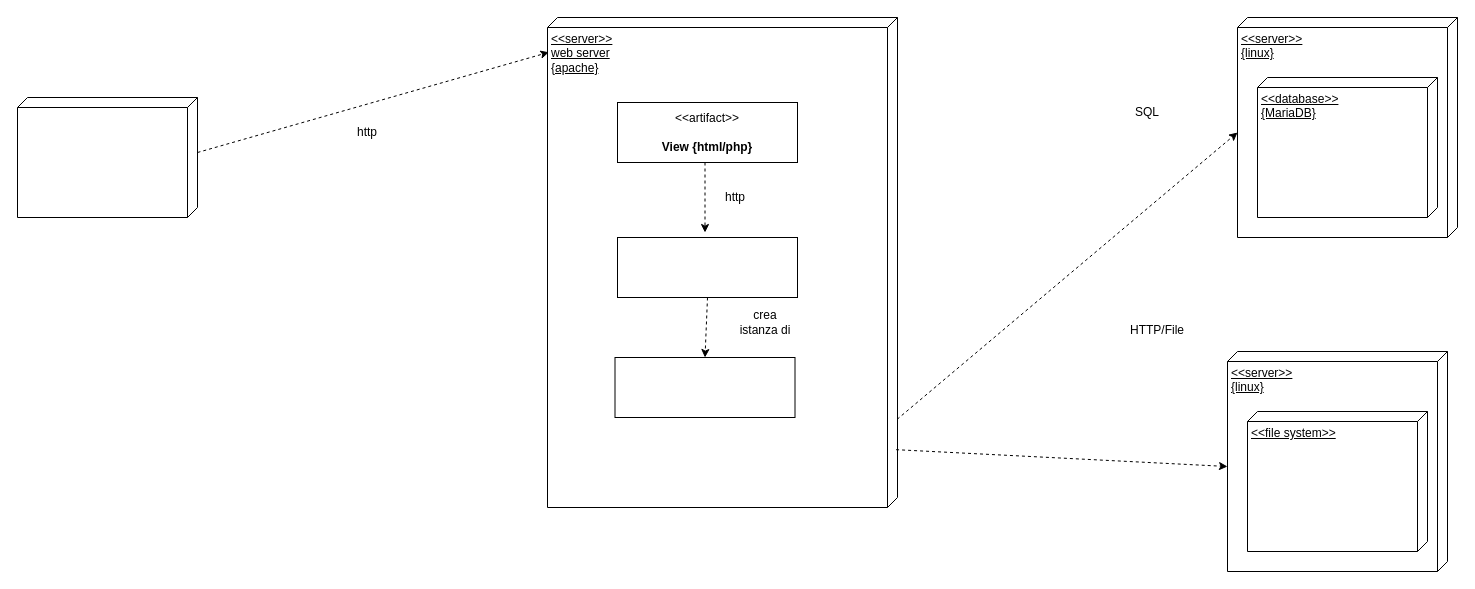
The diagram is 1475 pixels wide and 589 high, and some of its shapes have lost their labels. The shapes that lost their labels are listed below. From the top down, each one's centre as x and y in pixels, then its label:
the point at 107,157: <<PC>> client {browser}
the point at 707,267: <<artifact>> controllers {php}
the point at 704,387: <<artifact>> models {php}
